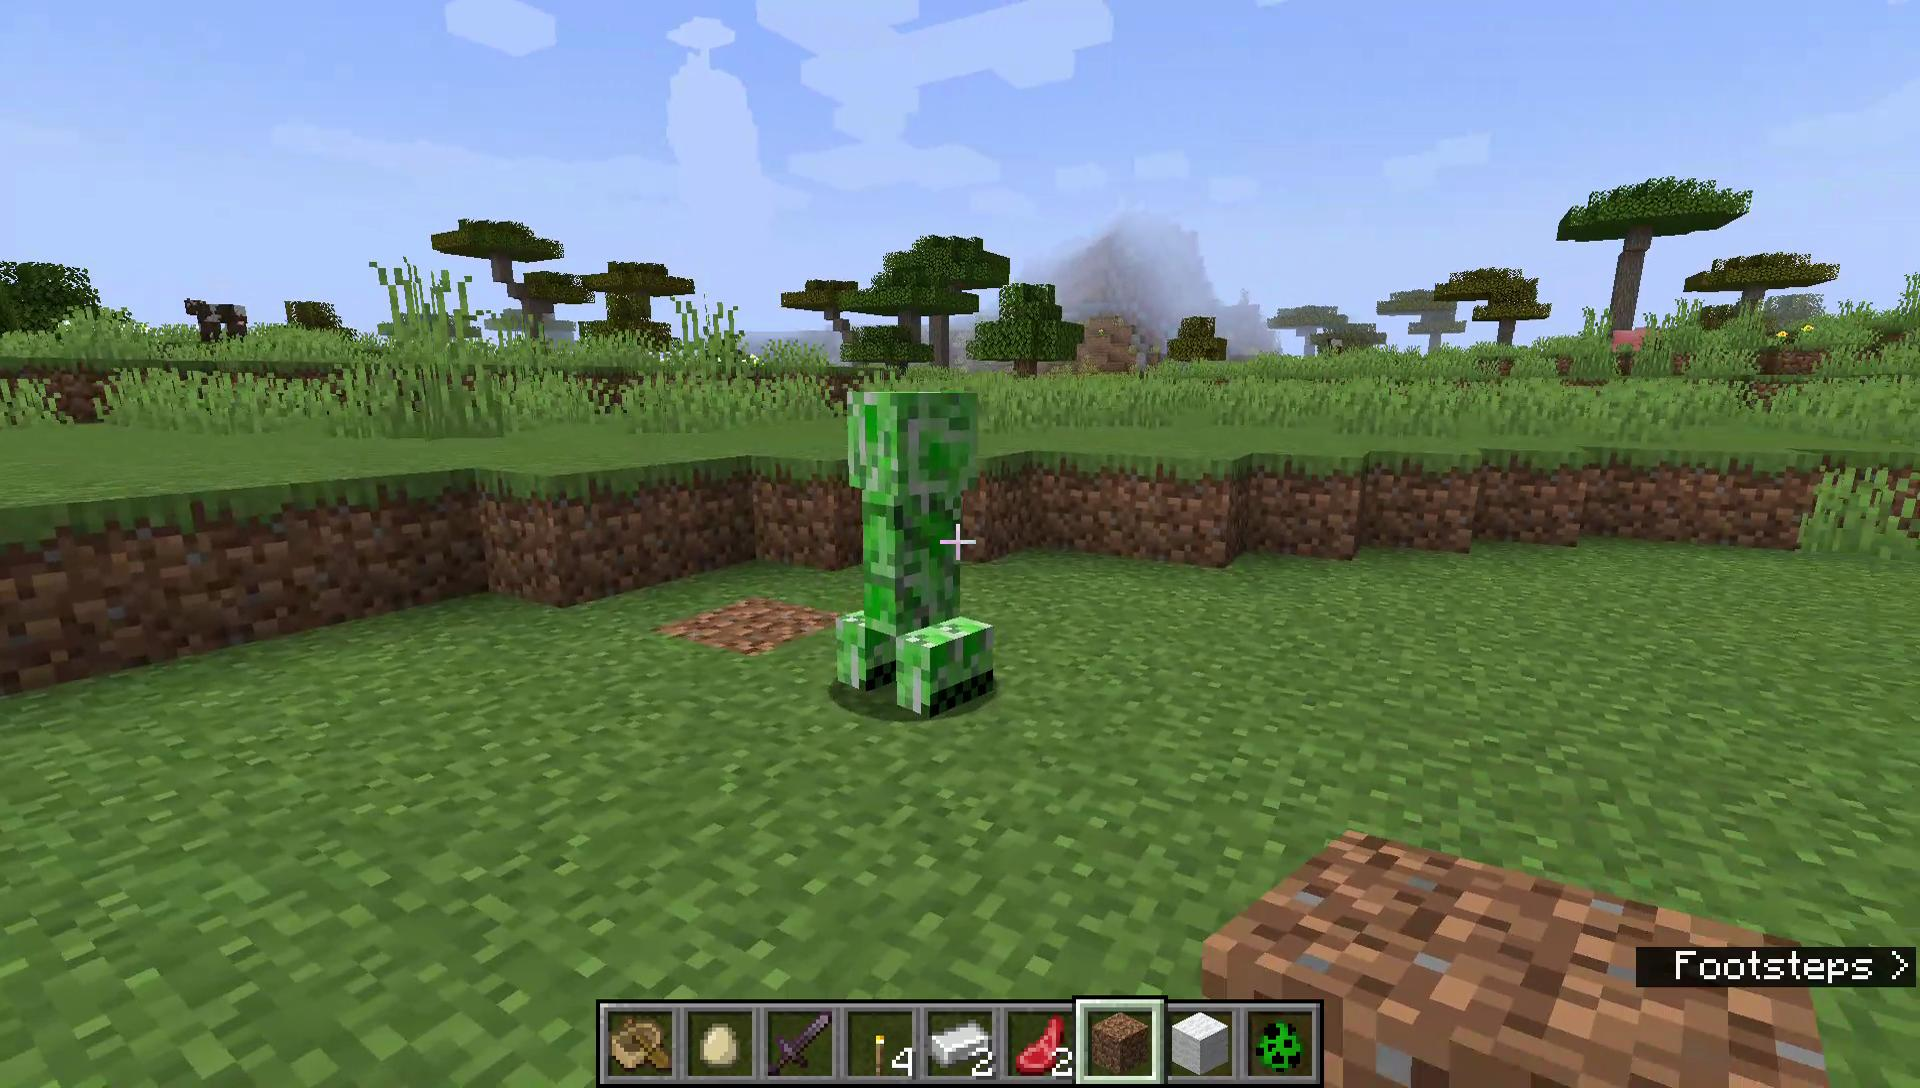creeper: (829, 384, 1006, 720)
